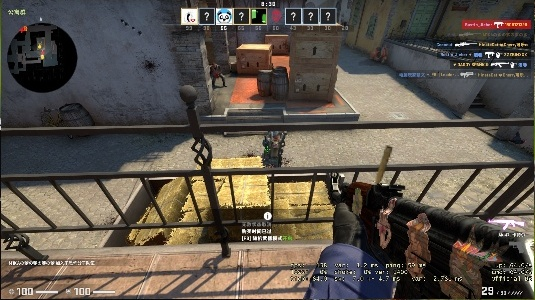body: (261, 129, 286, 169), (209, 62, 228, 88)
head: (269, 130, 279, 141), (212, 63, 218, 69)
